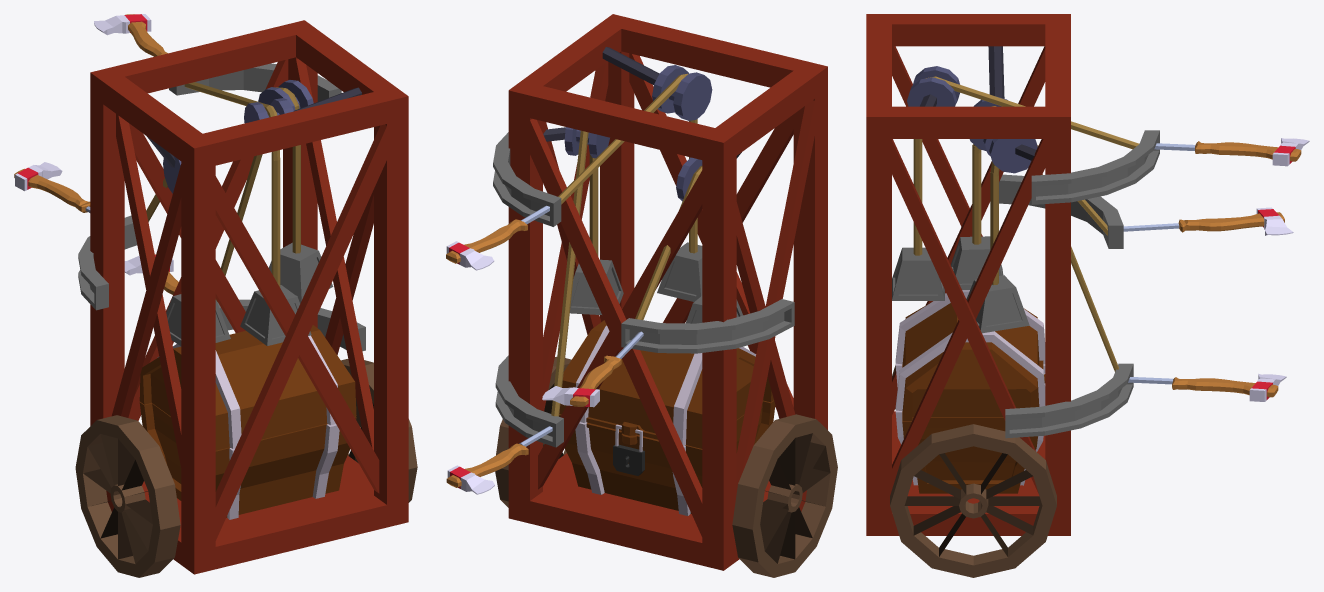
File: AxeMachine.fbx
The picture shows the model from 3 angles, left to right: view 1: azimuth 30°, elevation 25°; view 2: azimuth 150°, elevation 25°; view 3: azimuth 270°, elevation 25°; orthographic projection. The views are drawn at different scales.
Parts seen in each view (by area): view 1: Frame, Chest, Wheel2, Rail2, Rail3, Weight2, Weight1, Axe3, Axe2, WeightRod2, Wheel1, Weight3 (+7 smaller); view 2: Frame, Chest, Wheel2, Rail3, Rail2, Rail1, Roll2, RollRod1, Weight2, Axe2, Axe1, Axe3 (+8 smaller); view 3: Frame, Chest, Wheel1, Rail2, Rail1, Weight2, Weight1, Rail3, Axe3, Axe1, Axe2, Roll2 (+8 smaller).
Part boxes in pixels (bbox=[...]): Frame: bbox=[90, 20, 408, 574]; Chest: bbox=[139, 325, 356, 519]; Wheel2: bbox=[75, 415, 180, 577]; Rail2: bbox=[169, 63, 341, 101]; Rail3: bbox=[78, 215, 137, 310]; Weight2: bbox=[240, 285, 311, 345]; Weight1: bbox=[269, 242, 333, 303]; Axe3: bbox=[14, 162, 90, 212]; Axe2: bbox=[94, 14, 167, 56]; WeightRod2: bbox=[271, 159, 280, 287]; Wheel1: bbox=[341, 359, 417, 502]; Weight3: bbox=[166, 294, 230, 345]; Frame: bbox=[508, 14, 827, 570]; Chest: bbox=[559, 320, 775, 515]; Wheel2: bbox=[732, 414, 837, 577]; Rail3: bbox=[621, 299, 794, 353]; Rail2: bbox=[493, 132, 561, 226]; Rail1: bbox=[495, 355, 563, 447]; Roll2: bbox=[652, 65, 712, 120]; RollRod1: bbox=[551, 130, 591, 416]; Weight2: bbox=[657, 242, 702, 301]; Axe2: bbox=[446, 219, 527, 270]; Axe1: bbox=[446, 443, 528, 494]; Axe3: bbox=[542, 355, 621, 407]; Frame: bbox=[866, 14, 1070, 535]; Chest: bbox=[895, 290, 1045, 493]; Wheel1: bbox=[890, 424, 1056, 577]; Rail2: bbox=[1031, 130, 1159, 204]; Rail1: bbox=[1005, 363, 1133, 438]; Weight2: bbox=[892, 247, 944, 300]; Weight1: bbox=[966, 275, 1029, 333]; Rail3: bbox=[999, 174, 1123, 248]; Axe3: bbox=[1178, 207, 1293, 235]; Axe1: bbox=[1172, 373, 1286, 401]; Axe2: bbox=[1195, 138, 1309, 166]; Roll2: bbox=[907, 66, 959, 106].
Size of the model in its own units: 103 by 163 by 146.
